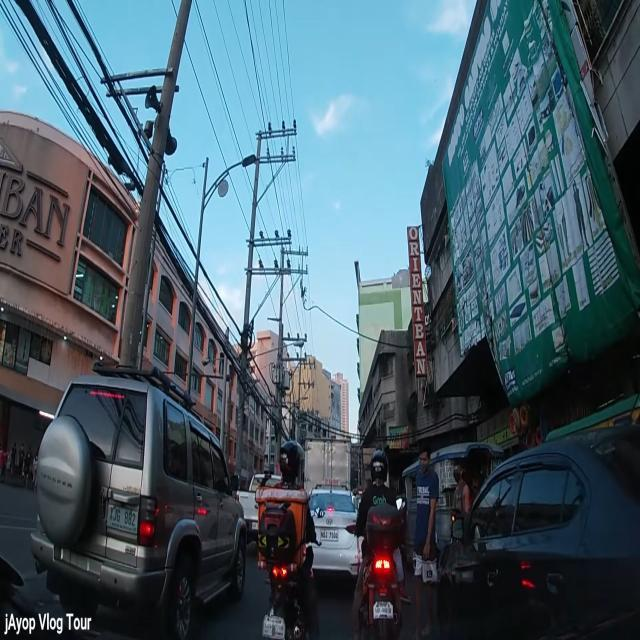car: (29, 356, 249, 631), (437, 422, 640, 640), (308, 476, 364, 576), (236, 474, 281, 538)
jeepney: (400, 442, 503, 548)
motorcycle: (255, 438, 322, 639), (352, 450, 404, 638)
truck: (304, 436, 352, 494)
